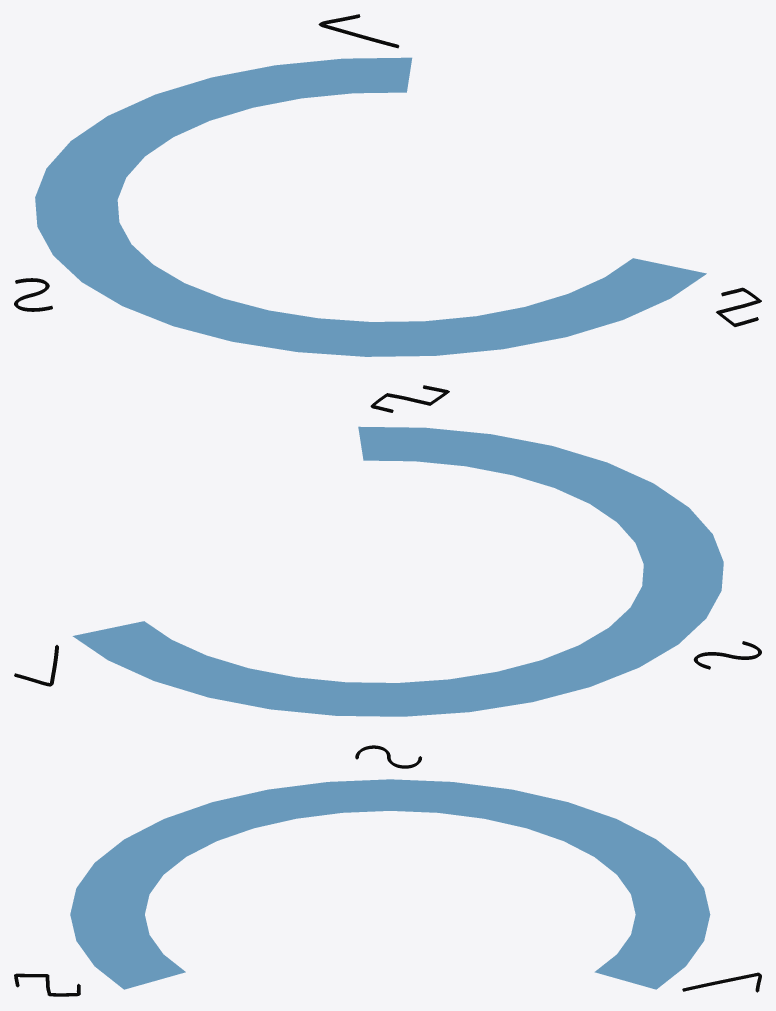
File: ring.dae
3 views of the same model, one above another, from view 1: azimuth 30°, elevation 25°; view 2: azimuth 150°, elevation 25°; view 3: azimuth 270°, elevation 25° (orthographic). The views are drawn at different scales.
Parts seen in each view (by area): view 1: Circle; view 2: Circle; view 3: Circle.
Part boxes in pixels (x1,y1,x2,y2): Circle: (35, 57, 706, 356); Circle: (72, 426, 723, 716); Circle: (70, 779, 710, 989).
Bounding box in the file's own units: 1.84 × 2.34 × 0.0116.
